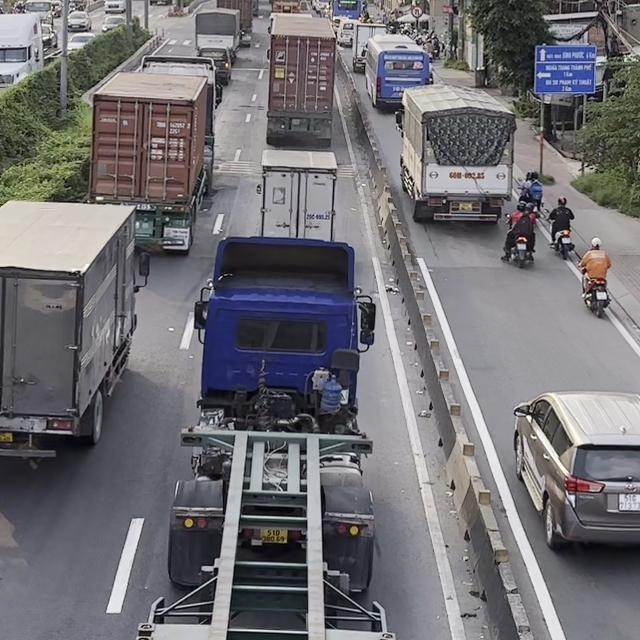bus: (361, 33, 434, 111)
car: (512, 389, 639, 550)
motorcycle: (577, 263, 610, 318), (504, 213, 535, 268), (543, 209, 576, 260)
truck: (133, 235, 397, 640), (0, 198, 150, 462), (85, 53, 223, 254), (396, 81, 516, 224), (265, 15, 336, 147), (255, 148, 338, 242), (194, 7, 243, 64), (349, 21, 389, 73), (215, 0, 256, 46)
